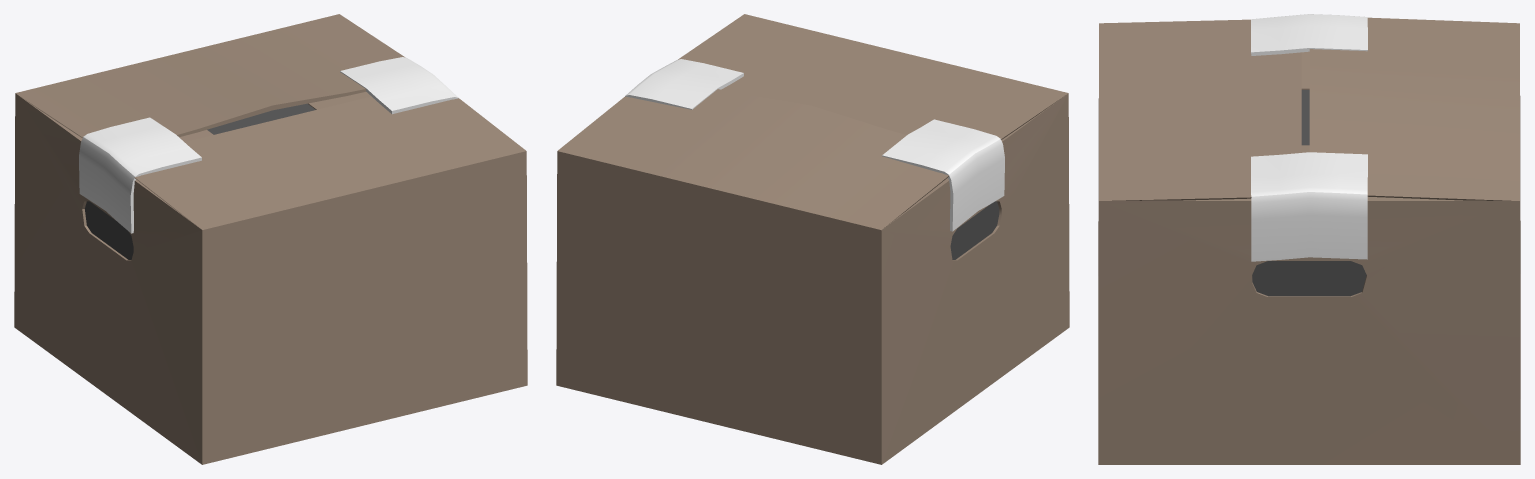
Rendered from BoxPackage.fbx.
The picture shows the model from 3 angles, left to right: view 1: azimuth 30°, elevation 25°; view 2: azimuth 150°, elevation 25°; view 3: azimuth 270°, elevation 25°; orthographic projection. The views are drawn at different scales.
Visible parts, largest first — view 1: polySurface4; view 2: polySurface4; view 3: polySurface4.
Boxes of the visible parts, x1,y1,x2,y2 form: polySurface4: (14, 14, 527, 464); polySurface4: (556, 14, 1069, 464); polySurface4: (1098, 14, 1520, 464).
Size of the model in its own units: 1.03 by 0.7387 by 1.
